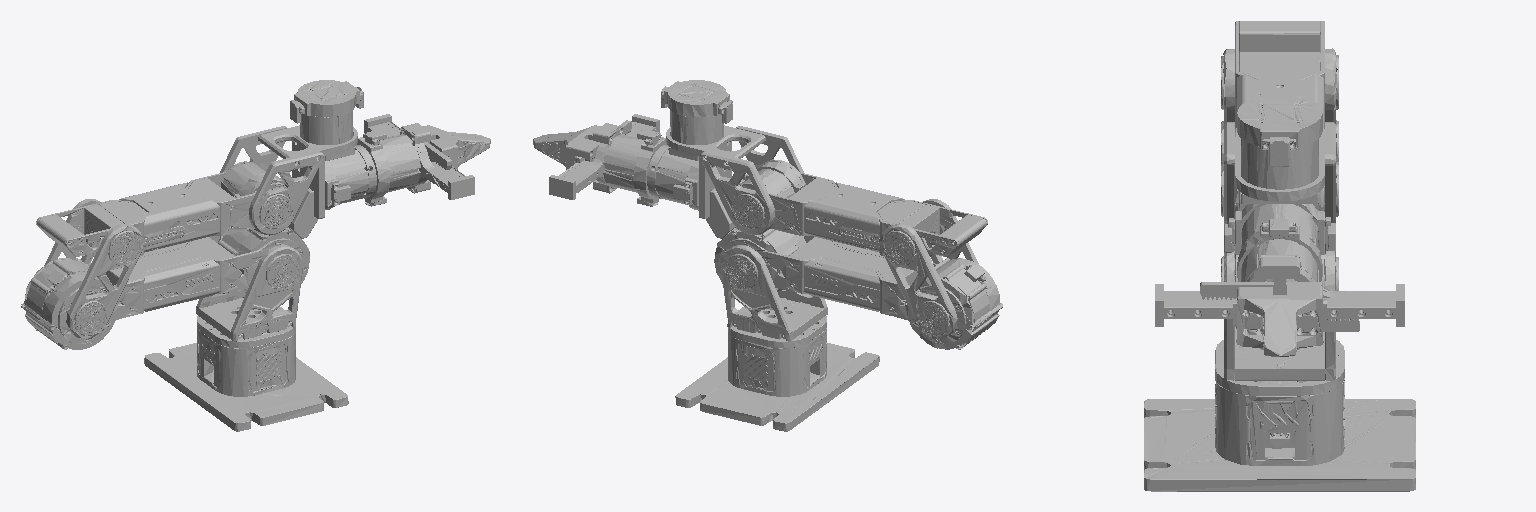
URDF robot description (b601_rs_preview):
<?xml version="1.0" encoding="utf-8"?>
<!-- This URDF was automatically created by SolidWorks to URDF Exporter! Originally created by Stephen Brawner (brawner@gmail.com) 
     Commit Version: 1.6.0-4-g7f85cfe  Build Version: 1.6.7995.38578
     For more information, please see http://wiki.ros.org/sw_urdf_exporter -->
<robot
  name="b601_rs_preview">
  <link
    name="base_link">
    <inertial>
      <origin
        xyz="2.87641888266442E-06 -0.000122302488725115 0.0243376121934547"
        rpy="0 0 0" />
      <mass
        value="1.1774" />
      <inertia
        ixx="0.00133040"
        ixy="0.00000001"
        ixz="0.00000000"
        iyy="0.00213119"
        iyz="0.00000000"
        izz="0.00275877" />
    </inertial>
    <visual>
      <origin
        xyz="0 0 0"
        rpy="0 0 0" />
      <geometry>
        <mesh
          filename="assets_preview/base_link.STL" />
      </geometry>
      <material
        name="">
        <color
          rgba="0.752941176470588 0.752941176470588 0.752941176470588 1" />
      </material>
    </visual>
    <collision>
      <origin
        xyz="0 0 0"
        rpy="0 0 0" />
      <geometry>
        <mesh
          filename="assets_preview/base_link.STL" />
      </geometry>
    </collision>
  </link>
  <link
    name="link1">
    <inertial>
      <origin
        xyz="0.00817652280320541 0.00122584211922395 0.0331419658967293"
        rpy="0 0 0" />
      <mass
        value="0.4655" />
      <inertia
        ixx="0.00025207"
        ixy="0.00000000"
        ixz="-0.00002832"
        iyy="0.00015464"
        iyz="0.00000000"
        izz="0.00023416" />
    </inertial>
    <visual>
      <origin
        xyz="0 0 0"
        rpy="0 0 0" />
      <geometry>
        <mesh
          filename="assets_preview/link1.STL" />
      </geometry>
      <material
        name="">
        <color
          rgba="0.752941176470588 0.752941176470588 0.752941176470588 1" />
      </material>
    </visual>
    <collision>
      <origin
        xyz="0 0 0"
        rpy="0 0 0" />
      <geometry>
        <mesh
          filename="assets_preview/link1.STL" />
      </geometry>
    </collision>
  </link>
  <joint
    name="joint1"
    type="revolute">
    <origin
      xyz="-0.00034283 -0.00098683 0.075"
      rpy="0 0 0" />
    <parent
      link="base_link" />
    <child
      link="link1" />
    <axis
      xyz="0 0 -1" />
    <limit
      lower="-2.8"
      upper="2.8"
      effort="36"
      velocity="50" />
  </joint>
  <link
    name="link2">
    <inertial>
      <origin
        xyz="-0.117864812717456 -0.00342226413942967 -0.0271551938501484"
        rpy="0 0 0" />
      <mass
        value="1.972" />
      <inertia
        ixx="0.00073374"
        ixy="-0.00000043"
        ixz="0.00000851"
        iyy="0.01255987"
        iyz="0.00000128"
        izz="0.01281387" />
    </inertial>
    <!-- <visual>
      <origin
        xyz="0 0 0"
        rpy="0 0 0" />
      <geometry>
        <mesh
          filename="assets_preview/link2.STL" />
      </geometry>
      <material
        name="">
        <color
          rgba="0.752941176470588 0.752941176470588 0.752941176470588 1" />
      </material>
    </visual> -->
    <visual>
      <origin
        xyz="0 0 0"
        rpy="0 0 0" />
      <geometry>
        <mesh
          filename="assets_preview/motor_2_3.STL" />
      </geometry>
      <material
        name="">
        <color
          rgba="0.752941176470588 0.752941176470588 0.752941176470588 1" />
      </material>
    </visual>
    <visual>
      <origin
        xyz="0 0 0"
        rpy="0 0 0" />
      <geometry>
        <mesh
          filename="assets_preview/cnc2.STL" />
      </geometry>
      <material
        name="">
        <color
          rgba="0.752941176470588 0.752941176470588 0.752941176470588 1" />
      </material>
    </visual>
    <visual>
      <origin
        xyz="0 0 0"
        rpy="0 0 0" />
      <geometry>
        <mesh
          filename="assets_preview/pla2_black.STL" />
      </geometry>
      <material
        name="">
        <color
          rgba="0.752941176470588 0.752941176470588 0.752941176470588 1" />
      </material>
    </visual>
    <visual>
      <origin
        xyz="0 0 0"
        rpy="0 0 0" />
      <geometry>
        <mesh
          filename="assets_preview/pla2_green.STL" />
      </geometry>
      <material
        name="">
        <color
          rgba="0.752941176470588 0.752941176470588 0.752941176470588 1" />
      </material>
    </visual>
    <collision>
      <origin
        xyz="0 0 0"
        rpy="0 0 0" />
      <geometry>
        <mesh
          filename="assets_preview/link2.STL" />
      </geometry>
    </collision>
  </link>
  <joint
    name="joint2"
    type="revolute">
    <origin
      xyz="0.020343 0.027237 0.07"
      rpy="-1.5708 0 0" />
    <parent
      link="link1" />
    <child
      link="link2" />
    <!-- Axis -Z: Damiao/Seeed motor +angle is opposite SolidWorks export +Z (fixes virtual up/down). -->
    <axis
      xyz="0 0 -1" />
    <!-- Seeed soft limit shoulder_lift ≈ (-170°, +1°); DM teleop is negative. -->
    <limit
      lower="-3.14"
      upper="0.05"
      effort="36"
      velocity="50" />
  </joint>
  <link
    name="link3">
    <inertial>
      <origin
        xyz="0.103427154487799 -0.0664137912104635 -0.0271068687716704"
        rpy="0 0 0" />
      <mass
        value="1.062" />
      <inertia
        ixx="0.00046807"
        ixy="-0.00003456"
        ixz="-0.00004260"
        iyy="0.00632695"
        iyz="0.00000006"
        izz="0.00648221" />
    </inertial>
    <!--  <visual>
      <origin
        xyz="0 0 0"
        rpy="0 0 0" />
      <geometry>
        <mesh
          filename="assets_preview/link3.STL" />
      </geometry>
      <material
        name="">
        <color
          rgba="0.752941176470588 0.752941176470588 0.752941176470588 1" />
      </material>
    </visual> -->
    <visual>
      <origin
        xyz="0 0 0"
        rpy="0 0 0" />
      <geometry>
        <mesh
          filename="assets_preview/cnc3.STL" />
      </geometry>
      <material
        name="">
        <color
          rgba="0.752941176470588 0.752941176470588 0.752941176470588 1" />
      </material>
    </visual>
    <visual>
      <origin
        xyz="0 0 0"
        rpy="0 0 0" />
      <geometry>
        <mesh
          filename="assets_preview/motor_4.STL" />
      </geometry>
      <material
        name="">
        <color
          rgba="0.752941176470588 0.752941176470588 0.752941176470588 1" />
      </material>
    </visual>
    <visual>
      <origin
        xyz="0 0 0"
        rpy="0 0 0" />
      <geometry>
        <mesh
          filename="assets_preview/pla3_black.STL" />
      </geometry>
      <material
        name="">
        <color
          rgba="0.752941176470588 0.752941176470588 0.752941176470588 1" />
      </material>
    </visual>
    <visual>
      <origin
        xyz="0 0 0"
        rpy="0 0 0" />
      <geometry>
        <mesh
          filename="assets_preview/pla3_green.STL" />
      </geometry>
      <material
        name="">
        <color
          rgba="0.752941176470588 0.752941176470588 0.752941176470588 1" />
      </material>
    </visual>
    <collision>
      <origin
        xyz="0 0 0"
        rpy="0 0 0" />
      <geometry>
        <mesh
          filename="assets_preview/link3.STL" />
      </geometry>
    </collision>
  </link>
  <joint
    name="joint3"
    type="revolute">
    <origin
      xyz="-0.236 0 0"
      rpy="0 0 0" />
    <parent
      link="link2" />
    <child
      link="link3" />
    <axis
      xyz="0 0 -1" />
    <!-- Symmetric: web applies B601_DISPLAY_SIGN joint3=-1 (motor neg → visual pos). -->
    <limit
      lower="-3.5"
      upper="3.5"
      effort="36"
      velocity="50" />
  </joint>
  <link
    name="link4">
    <inertial>
      <origin
        xyz="0.0475544540775559 -0.0441113470158517 -0.0314111924918381"
        rpy="0 0 0" />
      <mass
        value="0.66" />
      <inertia
        ixx="0.00045986"
        ixy="0.00024219"
        ixz="-0.0"
        iyy="0.00075258"
        iyz="-0.0"
        izz="0.00066742" />
    </inertial>
    <!-- <visual>
      <origin
        xyz="0 0 0"
        rpy="0 0 0" />
      <geometry>
        <mesh
          filename="assets_preview/link4.STL" />
      </geometry>
      <material
        name="">
        <color
          rgba="0.752941176470588 0.752941176470588 0.752941176470588 1" />
      </material>
    </visual> -->
    <visual>
      <origin
        xyz="0 0 0"
        rpy="0 0 0" />
      <geometry>
        <mesh
          filename="assets_preview/motor_5.STL" />
      </geometry>
      <material
        name="">
        <color
          rgba="0.752941176470588 0.752941176470588 0.752941176470588 1" />
      </material>
    </visual>
    <visual>
      <origin
        xyz="0 0 0"
        rpy="0 0 0" />
      <geometry>
        <mesh
          filename="assets_preview/cnc4.STL" />
      </geometry>
      <material
        name="">
        <color
          rgba="0.752941176470588 0.752941176470588 0.752941176470588 1" />
      </material>
    </visual>
    <collision>
      <origin
        xyz="0 0 0"
        rpy="0 0 0" />
      <geometry>
        <mesh
          filename="assets_preview/link4.STL" />
      </geometry>
    </collision>
  </link>
  <joint
    name="joint4"
    type="revolute">
    <origin
      xyz="0.228 -0.072746 0.0045"
      rpy="0 0 0" />
    <parent
      link="link3" />
    <child
      link="link4" />
    <axis
      xyz="0 0 -1" />
    <limit
      lower="-1.57"
      upper="1.57"
      effort="14"
      velocity="40" />
  </joint>
  <link
    name="link5">
    <inertial>
      <origin
        xyz="0.0114400622356175 4.7907739316217E-06 0.0380487481818926"
        rpy="0 0 0" />
      <mass
        value="0.150120457182895" />
      <inertia
        ixx="7.34238025911107E-05"
        ixy="1.35700947009798E-08"
        ixz="-8.58146433770359E-07"
        iyy="5.5153884237714E-05"
        iyz="-1.32742144977931E-08"
        izz="5.29920095811017E-05" />
    </inertial>
    <!-- <visual>
      <origin
        xyz="0 0 0"
        rpy="0 0 0" />
      <geometry>
        <mesh
          filename="assets_preview/link5.STL" />
      </geometry>
      <material
        name="">
        <color
          rgba="0.752941176470588 0.752941176470588 0.752941176470588 1" />
      </material>
    </visual> -->
    <visual>
      <origin
        xyz="0 0 0"
        rpy="0 0 0" />
      <geometry>
        <mesh
          filename="assets_preview/motor_6.STL" />
      </geometry>
      <material
        name="">
        <color
          rgba="0.752941176470588 0.752941176470588 0.752941176470588 1" />
      </material>
    </visual>
    <visual>
      <origin
        xyz="0 0 0"
        rpy="0 0 0" />
      <geometry>
        <mesh
          filename="assets_preview/cnc5.STL" />
      </geometry>
      <material
        name="">
        <color
          rgba="0.752941176470588 0.752941176470588 0.752941176470588 1" />
      </material>
    </visual>
    <visual>
      <origin
        xyz="0 0 0"
        rpy="0 0 0" />
      <geometry>
        <mesh
          filename="assets_preview/pla5_green.STL" />
      </geometry>
      <material
        name="">
        <color
          rgba="0.752941176470588 0.752941176470588 0.752941176470588 1" />
      </material>
    </visual>
    <collision>
      <origin
        xyz="0 0 0"
        rpy="0 0 0" />
      <geometry>
        <mesh
          filename="assets_preview/link5.STL" />
      </geometry>
    </collision>
  </link>
  <joint
    name="joint5"
    type="revolute">
    <origin
      xyz="0.087 -0.048 -0.03075"
      rpy="-1.5708 0 0" />
    <parent
      link="link4" />
    <child
      link="link5" />
    <axis
      xyz="0 0 -1" />
    <limit
      lower="-1.57"
      upper="1.57"
      effort="14"
      velocity="40" />
  </joint>
  <link
    name="link6">
    <inertial>
      <origin
        xyz="1.80196022567525E-05 2.48334592051007E-08 0.00434805764057547"
        rpy="0 0 0" />
      <mass
        value="0.03" />
      <inertia
        ixx="4.42273835852359E-06"
        ixy="3.16758463739482E-12"
        ixz="1.51852818442002E-10"
        iyy="4.37185522080034E-06"
        iyz="-2.21864017603015E-12"
        izz="8.54299378942051E-06" />
    </inertial>
    <visual>
      <origin
        xyz="0 0 0"
        rpy="0 0 0" />
      <geometry>
        <mesh
          filename="assets_preview/link6.STL" />
      </geometry>
      <material
        name="">
        <color
          rgba="0.752941176470588 0.752941176470588 0.752941176470588 1" />
      </material>
    </visual>
    <collision>
      <origin
        xyz="0 0 0"
        rpy="0 0 0" />
      <geometry>
        <mesh
          filename="assets_preview/link6.STL" />
      </geometry>
    </collision>
  </link>
  <joint
    name="joint6"
    type="revolute">
    <origin
      xyz="0.0365 0 0.048"
      rpy="0 1.5708 0" />
    <parent
      link="link5" />
    <child
      link="link6" />
    <axis
      xyz="0 0 -1" />
    <limit
      lower="-3.14"
      upper="3.14"
      effort="14"
      velocity="40" />
  </joint>
  <link
    name="gripper_end">
    <inertial>
      <origin
        xyz="-0.112751692515958 0.000128443070436966 -5.72602449749882E-06"
        rpy="0 0 0" />
      <mass
        value="0.65" />
      <inertia
        ixx="0.00037354"
        ixy="-0.00000011"
        ixz="0.00000050"
        iyy="0.00015830"
        iyz="0.00000348"
        izz="0.00045353" />
    </inertial>
    <!-- <visual>
      <origin
        xyz="0 0 0"
        rpy="0 0 0" />
      <geometry>
        <mesh
          filename="assets_preview/gripper_end.STL" />
      </geometry>
      <material
        name="">
        <color
          rgba="0.752941176470588 0.752941176470588 0.752941176470588 1" />
      </material>
    </visual> -->
    <visual>
      <origin
        xyz="0 0 0"
        rpy="0 0 0" />
      <geometry>
        <mesh
          filename="assets_preview/pla7_green.STL" />
      </geometry>
      <material
        name="">
        <color
          rgba="0.752941176470588 0.752941176470588 0.752941176470588 1" />
      </material>
    </visual>
    <visual>
      <origin
        xyz="0 0 0"
        rpy="0 0 0" />
      <geometry>
        <mesh
          filename="assets_preview/cnc7.STL" />
      </geometry>
      <material
        name="">
        <color
          rgba="0.752941176470588 0.752941176470588 0.752941176470588 1" />
      </material>
    </visual>
    <visual>
      <origin
        xyz="0 0 0"
        rpy="0 0 0" />
      <geometry>
        <mesh
          filename="assets_preview/motor_7.STL" />
      </geometry>
      <material
        name="">
        <color
          rgba="0.752941176470588 0.752941176470588 0.752941176470588 1" />
      </material>
    </visual>
    <collision>
      <origin
        xyz="0 0 0"
        rpy="0 0 0" />
      <geometry>
        <mesh
          filename="assets_preview/gripper_end.STL" />
      </geometry>
    </collision>
  </link>
  <joint
    name="j_gripper_end"
    type="fixed">
    <origin
      xyz="0 0 0.16621"
      rpy="3.1416 -1.5708 0" />
    <parent
      link="link6" />
    <child
      link="gripper_end" />
    <axis
      xyz="0 0 0" />
  </joint>
  <link
    name="gripper_left">
    <inertial>
      <origin
        xyz="-0.00218008703135955 0.0187090355934181 0.00932188568692145"
        rpy="0 0 0" />
      <mass
        value="0.0752" />
      <inertia
        ixx="1.09877964176176E-05"
        ixy="0"
        ixz="0"
        iyy="9.50146036720166E-06"
        iyz="0"
        izz="9.30779991911125E-06" />
    </inertial>
    <!-- <visual>
      <origin
        xyz="0 0 0"
        rpy="0 0 0" />
      <geometry>
        <mesh
          filename="assets_preview/gripper_left.STL" />
      </geometry>
      <material
        name="">
        <color
          rgba="0.752941176470588 0.752941176470588 0.752941176470588 1" />
      </material>
    </visual> -->
    <visual>
      <origin
        xyz="0 0 0"
        rpy="0 0 0" />
      <geometry>
        <mesh
          filename="assets_preview/pla_left.STL" />
      </geometry>
      <material
        name="">
        <color
          rgba="0.752941176470588 0.752941176470588 0.752941176470588 1" />
      </material>
    </visual>
    <visual>
      <origin
        xyz="0 0 0"
        rpy="0 0 0" />
      <geometry>
        <mesh
          filename="assets_preview/cnc_left.STL" />
      </geometry>
      <material
        name="">
        <color
          rgba="0.752941176470588 0.752941176470588 0.752941176470588 1" />
      </material>
    </visual>
    <collision>
      <origin
        xyz="0 0 0"
        rpy="0 0 0" />
      <geometry>
        <mesh
          filename="assets_preview/gripper_left.STL" />
      </geometry>
    </collision>
  </link>
  <joint
    name="gripper_joint1"
    type="prismatic">
    <origin
      xyz="-0.041939 -7.3385E-05 0"
      rpy="1.5708 -1.5708 0" />
    <parent
      link="gripper_end" />
    <child
      link="gripper_left" />
    <axis
      xyz="0 0 1" />
    <limit
      lower="0"
      upper="0.05"
      effort="500"
      velocity="10" />
  </joint>
  <link
    name="gripper_right">
    <inertial>
      <origin
        xyz="0.00218008703135955 -0.018709035593418 0.00932188568692151"
        rpy="0 0 0" />
      <mass
        value="0.0752" />
      <inertia
        ixx="1.09877964176176E-05"
        ixy="0"
        ixz="0"
        iyy="9.50146036720166E-06"
        iyz="0"
        izz="9.30779991911125E-06" />
    </inertial>
    <!-- <visual>
      <origin
        xyz="0 0 0"
        rpy="0 0 0" />
      <geometry>
        <mesh
          filename="assets_preview/gripper_right.STL" />
      </geometry>
      <material
        name="">
        <color
          rgba="0.752941176470588 0.752941176470588 0.752941176470588 1" />
      </material>
    </visual> -->
    <visual>
      <origin
        xyz="0 0 0"
        rpy="0 0 0" />
      <geometry>
        <mesh
          filename="assets_preview/pla_right.STL" />
      </geometry>
      <material
        name="">
        <color
          rgba="0.752941176470588 0.752941176470588 0.752941176470588 1" />
      </material>
    </visual>
    <visual>
      <origin
        xyz="0 0 0"
        rpy="0 0 0" />
      <geometry>
        <mesh
          filename="assets_preview/cnc_right.STL" />
      </geometry>
      <material
        name="">
        <color
          rgba="0.752941176470588 0.752941176470588 0.752941176470588 1" />
      </material>
    </visual>
    <collision>
      <origin
        xyz="0 0 0"
        rpy="0 0 0" />
      <geometry>
        <mesh
          filename="assets_preview/gripper_right.STL" />
      </geometry>
    </collision>
  </link>
  <joint
    name="gripper_joint2"
    type="prismatic">
    <origin
      xyz="-0.041939 7.3385E-05 0"
      rpy="-1.5708 -1.5708 0" />
    <parent
      link="gripper_end" />
    <child
      link="gripper_right" />
    <axis
      xyz="0 0 1" />
    <limit
      lower="0"
      upper="0.0715"
      effort="500"
      velocity="10" />
  </joint>
</robot>

--- What the picture shows (computed from the rendered views, not written in the file) ---
3 views of the same robot in one strip: view 1: azimuth 30°, elevation 25°; view 2: azimuth 150°, elevation 25°; view 3: azimuth 270°, elevation 25° (orthographic).
Model b601_rs_preview with 10 links and 9 joints (6 revolute, 2 prismatic, 1 fixed), rooted at base_link, posed all joints at 0.
Visible links, largest first — view 1: link3, link2, base_link, link4, link1, gripper_end, link5, gripper_left, gripper_right; view 2: link3, link2, base_link, link4, link1, gripper_end, link5, gripper_right; view 3: base_link, link4, link3, gripper_end, link1, gripper_right, link5, gripper_left.
Boxes of the visible links, x1,y1,x2,y2 form: link3: (36,161,284,338); link2: (21,228,309,349); base_link: (144,316,348,431); link4: (220,80,363,235); link1: (196,245,302,341); gripper_end: (357,114,474,206); link5: (287,141,368,238); gripper_left: (428,135,490,183); gripper_right: (423,125,489,169); link3: (739,160,987,338); link2: (714,227,1002,349); base_link: (675,316,879,431); link4: (661,80,803,235); link1: (721,245,827,341); gripper_end: (549,114,666,206); link5: (655,141,735,238); gripper_right: (533,120,631,169); base_link: (1144,340,1415,491); link4: (1221,94,1338,223); link3: (1221,21,1338,211); gripper_end: (1155,218,1404,349); link1: (1221,250,1338,380); gripper_right: (1200,282,1326,356); link5: (1224,193,1335,254); gripper_left: (1233,287,1359,356).
Size in the robot's own frame: 0.562 by 0.2 by 0.321 metres.
23 mesh visuals loaded from 23 distinct referenced files (23 binary STL).
